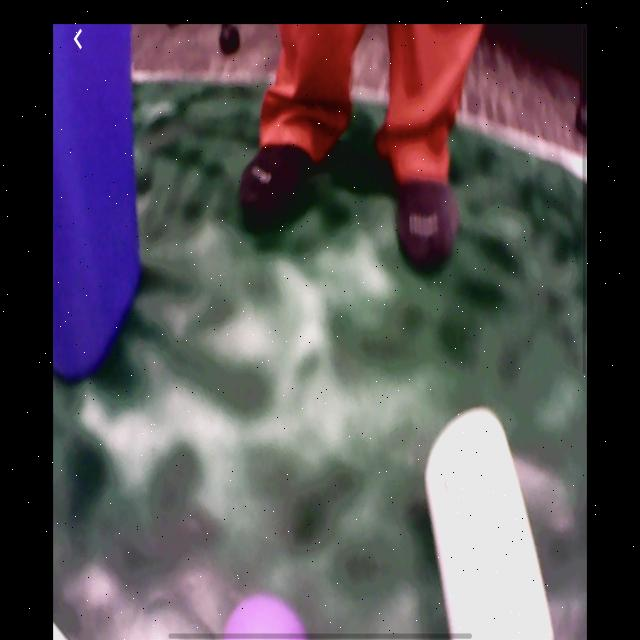ball: (224, 594, 306, 640)
